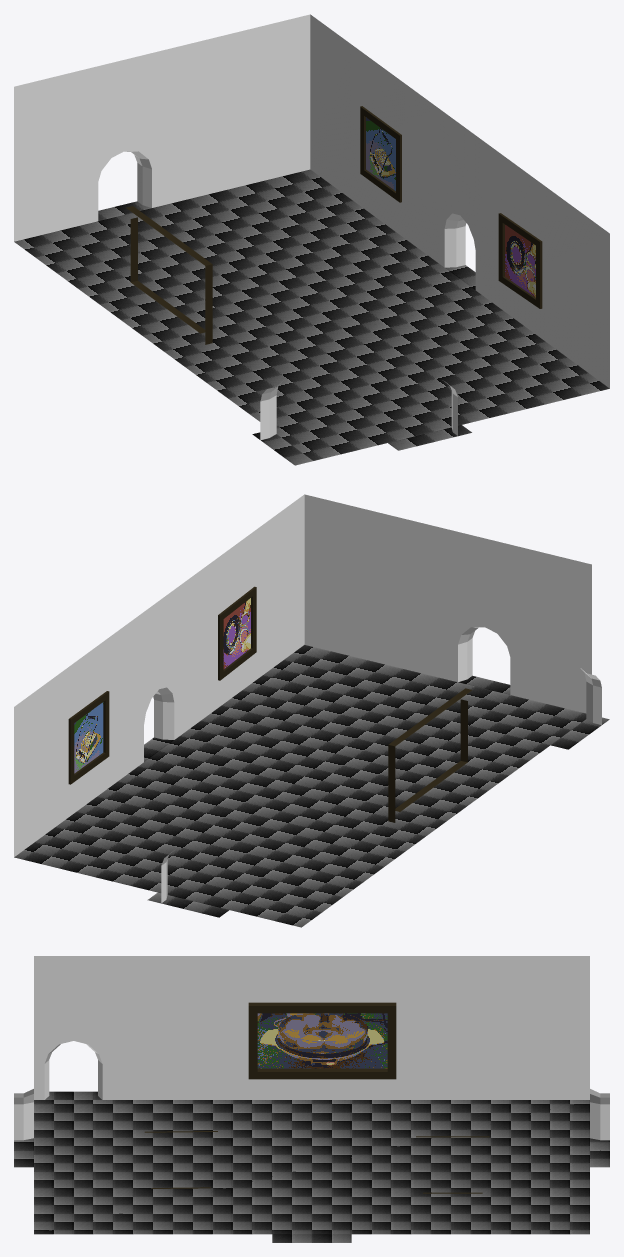
Rendered from Room2.glb.
3 views of the same model, one above another, from view 1: azimuth 30°, elevation 25°; view 2: azimuth 150°, elevation 25°; view 3: azimuth 270°, elevation 25° (orthographic). The views are drawn at different scales.
Parts seen in each view (by area): view 1: Floor.001, Wall2.001, Wall3.001, Frame.001, polySurface9, polySurface9.001, polySurface10, polySurface10.001, Wall1.001; view 2: Floor.001, Wall4.001, Wall3.001, Frame.001, polySurface9.001, polySurface10.001, polySurface9, polySurface10, Wall1.001; view 3: Floor.001, Wall1.001, Frame.001, CanvasLeft.001, CanvasRight.001, Wall2.001, Wall4.001.
Boxes of the visible parts, x1,y1,x2,y2 form: Floor.001: (14, 169, 609, 465); Wall2.001: (14, 14, 310, 241); Wall3.001: (310, 14, 609, 388); Frame.001: (126, 206, 212, 344); polySurface9: (505, 224, 535, 297); polySurface9.001: (366, 117, 395, 190); polySurface10: (498, 213, 542, 308); polySurface10.001: (360, 106, 401, 202); Wall1.001: (260, 380, 283, 440); Floor.001: (14, 645, 609, 927); Wall4.001: (304, 494, 591, 713); Wall3.001: (14, 494, 304, 856); Frame.001: (388, 688, 471, 822); polySurface9.001: (74, 702, 103, 773); polySurface10.001: (68, 691, 109, 784); polySurface9: (223, 598, 250, 669); polySurface10: (218, 586, 256, 680); Wall1.001: (580, 668, 601, 724); Floor.001: (14, 1091, 609, 1242); Wall1.001: (34, 956, 589, 1099); Frame.001: (248, 1002, 396, 1079); CanvasLeft.001: (257, 1013, 322, 1068); CanvasRight.001: (322, 1013, 387, 1068); Wall2.001: (590, 1089, 609, 1140); Wall4.001: (14, 1089, 33, 1140).
Bounding box in the file's own units: 9 × 4 × 15.
9 materials, 6 textured.
